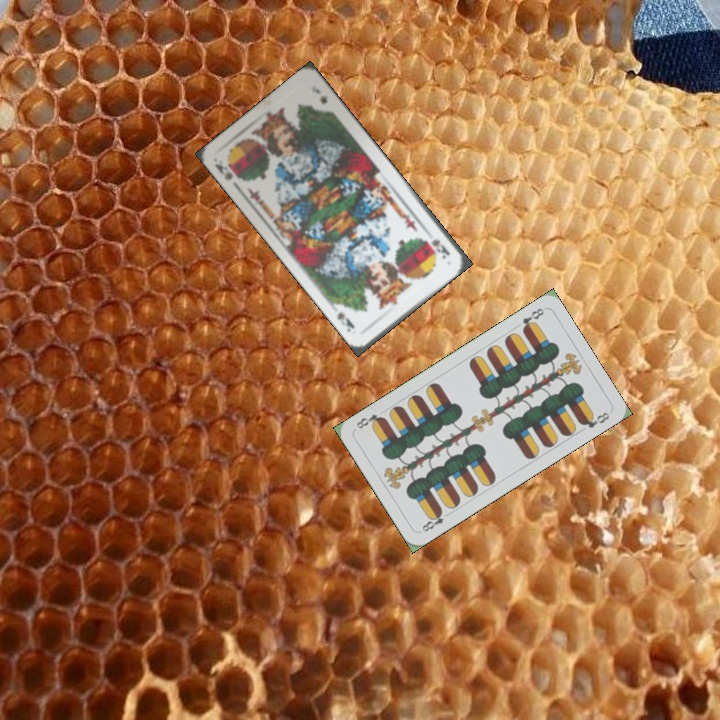E8: (418, 506, 453, 534), (518, 304, 547, 334)
SK: (427, 235, 453, 261), (211, 159, 236, 182)
